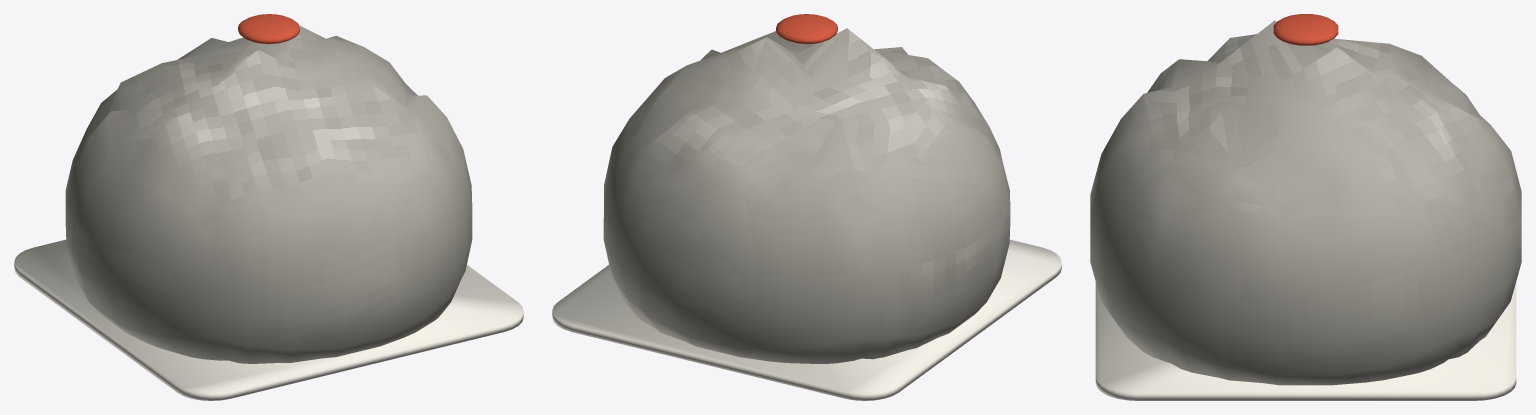
Rendered from anman.glb.
The picture shows the model from 3 angles, left to right: view 1: azimuth 30°, elevation 25°; view 2: azimuth 150°, elevation 25°; view 3: azimuth 270°, elevation 25°; orthographic projection. The views are drawn at different scales.
Visible parts, largest first — view 1: anman_felt_bun, anman_paper_white, anman_felt_red; view 2: anman_felt_bun, anman_paper_white, anman_felt_red; view 3: anman_felt_bun, anman_paper_white, anman_felt_red.
Part boxes in pixels (x1,y1,x2,y2): anman_felt_bun: (65,25,472,363); anman_paper_white: (14,239,523,400); anman_felt_red: (238,14,299,44); anman_felt_bun: (603,28,1010,363); anman_paper_white: (552,239,1061,400); anman_felt_red: (776,14,837,44); anman_felt_bun: (1090,20,1521,385); anman_paper_white: (1095,282,1516,400); anman_felt_red: (1273,14,1338,45).
Bounding box in the file's own units: 0.1537 × 0.1139 × 0.1539.
3 materials, 1 textured.
